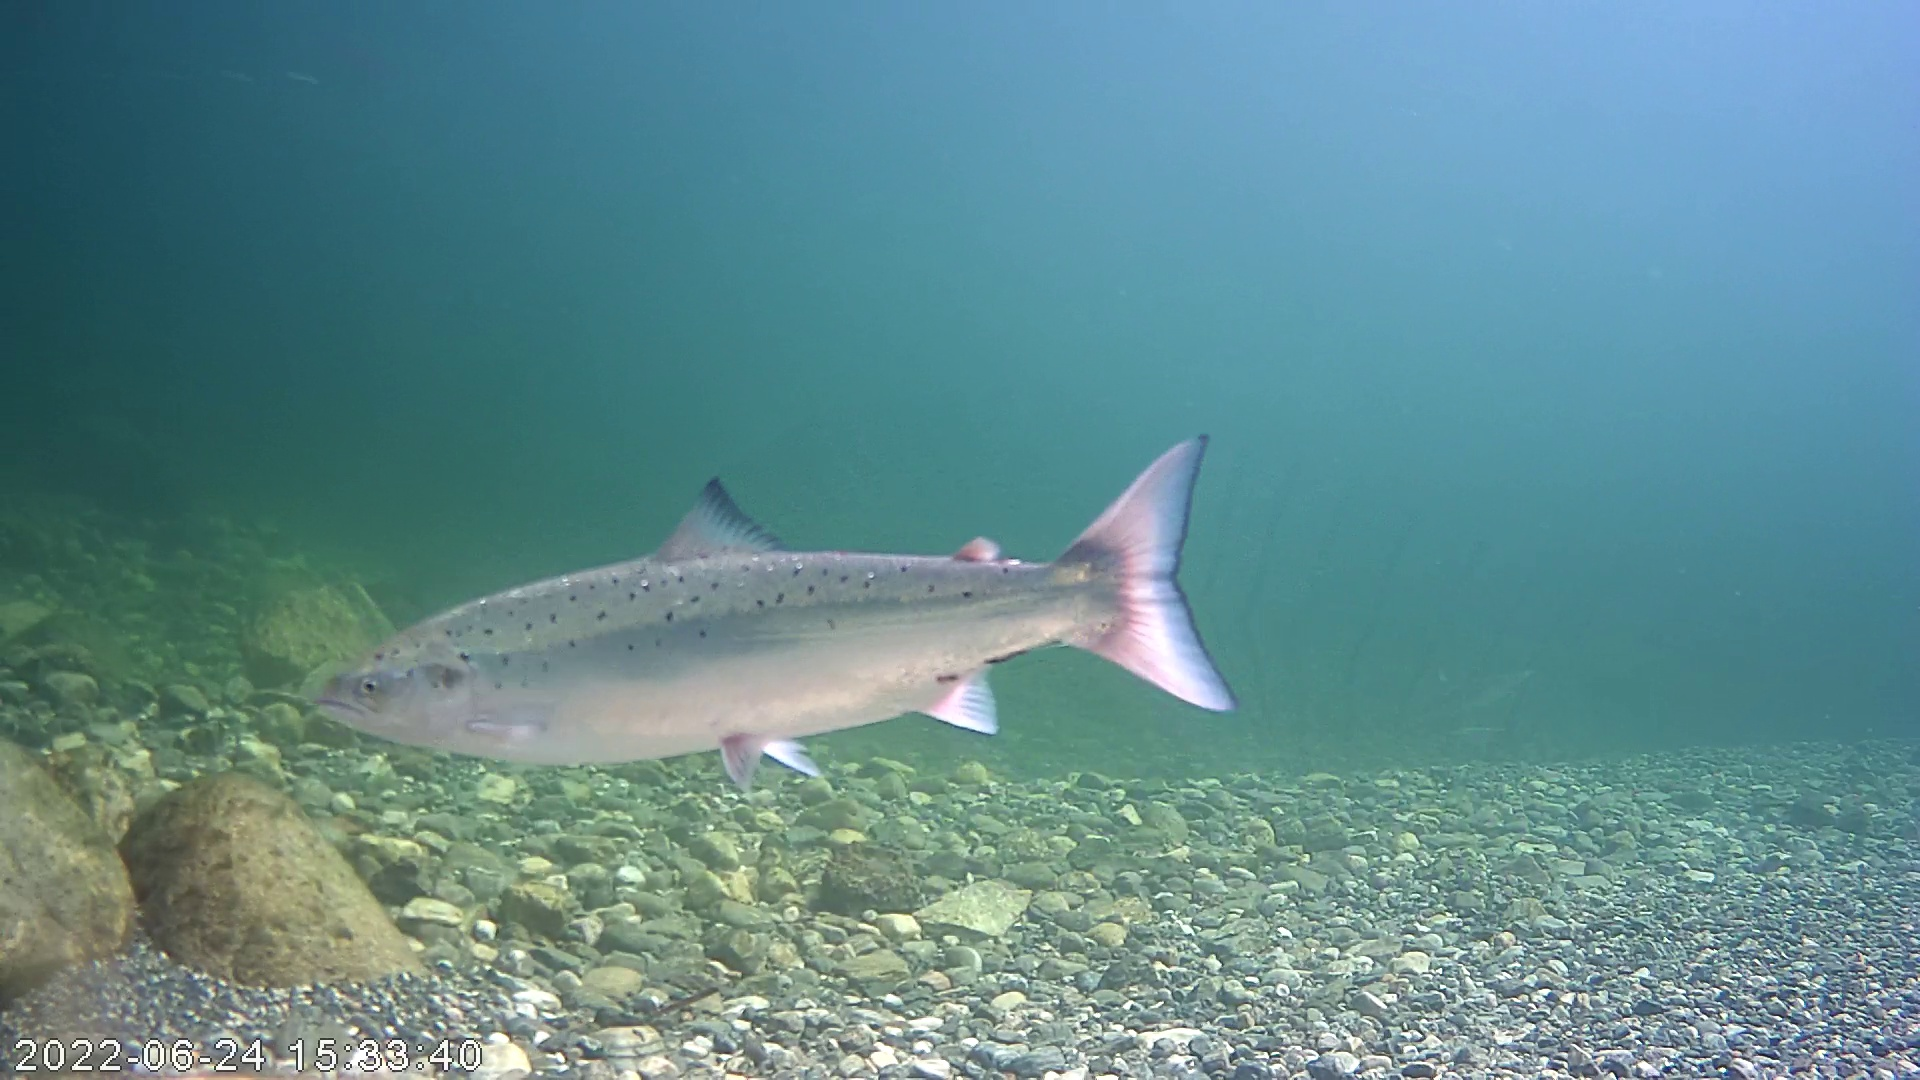salmon: (309, 429, 1244, 791)
